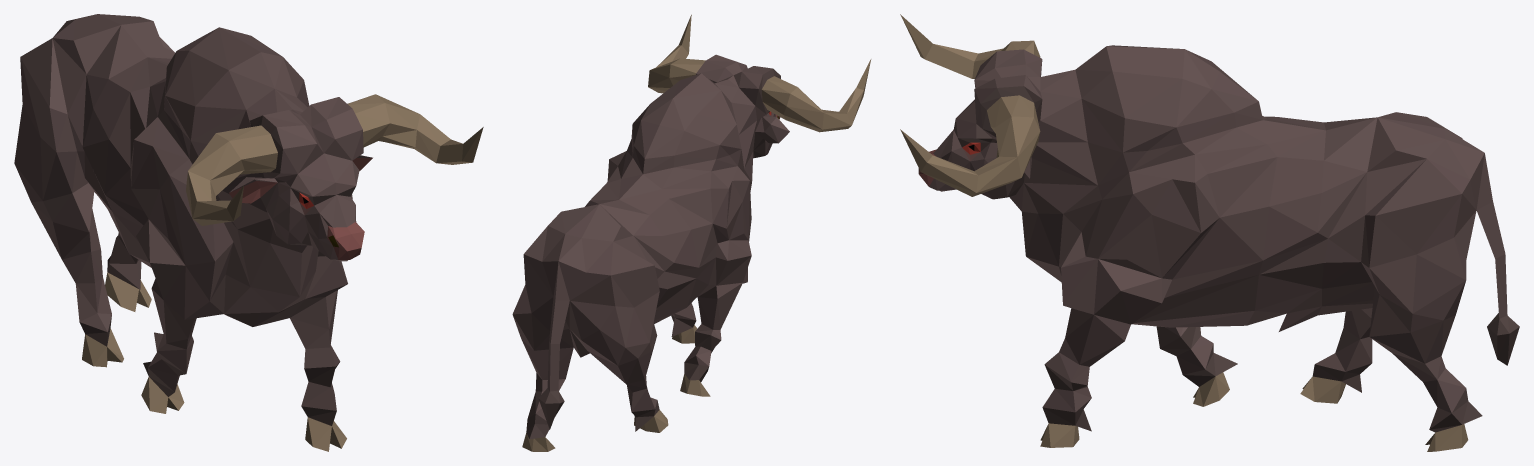
Rendered from brutus.glb.
3 renders of one model, left to right at view 1: azimuth 30°, elevation 25°; view 2: azimuth 150°, elevation 25°; view 3: azimuth 270°, elevation 25°, orthographic. The views are drawn at different scales.
Bounding box in the file's own units: 146 × 204 × 300.
Materials: 1 (1 with a texture image).
